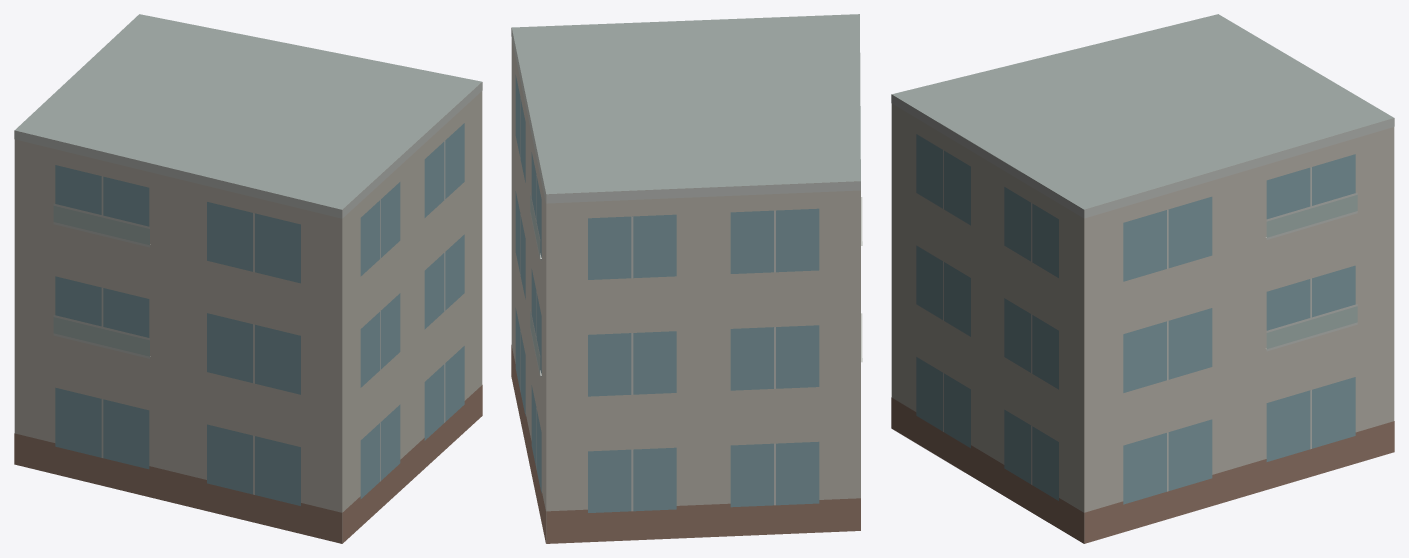
The model's file is survey-upis-32949023.glb.
3 renders of one model, left to right at view 1: azimuth 30°, elevation 25°; view 2: azimuth 150°, elevation 25°; view 3: azimuth 270°, elevation 25°, orthographic. The views are drawn at different scales.
Visible parts, largest first — view 1: survey-upis-32949023.tmp; view 2: survey-upis-32949023.tmp; view 3: survey-upis-32949023.tmp.
Boxes of the visible parts, x1,y1,x2,y2 form: survey-upis-32949023.tmp: [14, 14, 482, 543]; survey-upis-32949023.tmp: [511, 14, 862, 543]; survey-upis-32949023.tmp: [891, 14, 1394, 543].
Size of the model in its own units: 11.5 by 9.15 by 12.49.
